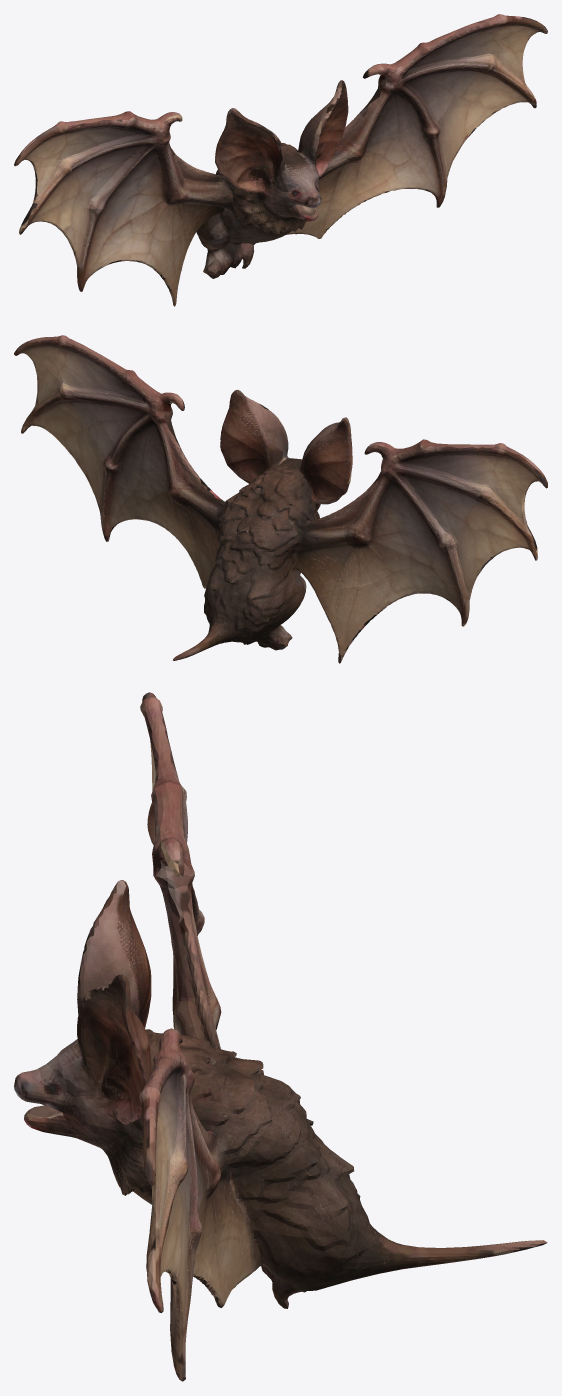
File: cave_bats.glb
3 renders of one model, top to bottom at view 1: azimuth 30°, elevation 25°; view 2: azimuth 150°, elevation 25°; view 3: azimuth 270°, elevation 25°, orthographic. The views are drawn at different scales.
Parts seen in each view (by area): view 1: temp_mesh.ply; view 2: temp_mesh.ply; view 3: temp_mesh.ply.
Part boxes in pixels (x1,y1,x2,y2): temp_mesh.ply: [14, 14, 547, 306]; temp_mesh.ply: [14, 335, 547, 663]; temp_mesh.ply: [14, 692, 547, 1381].
Bounding box in the file's own units: 1.97 × 0.8372 × 0.9372.
Materials: 1 (1 with a texture image).
